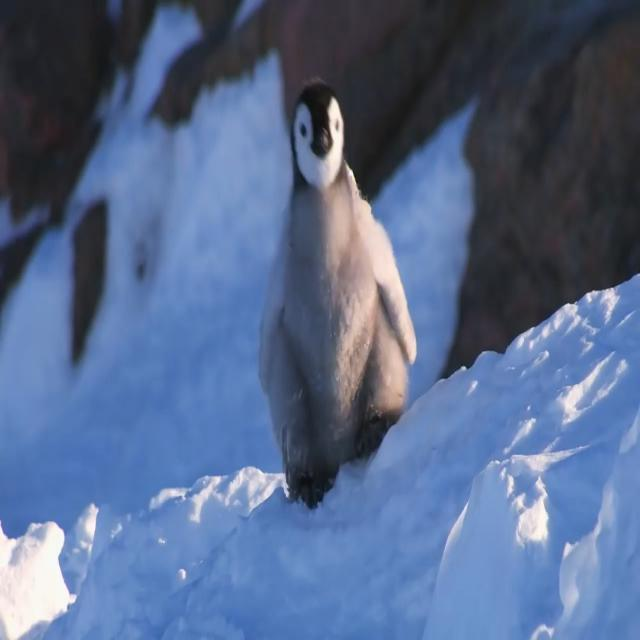penguin: (255, 77, 420, 510)
